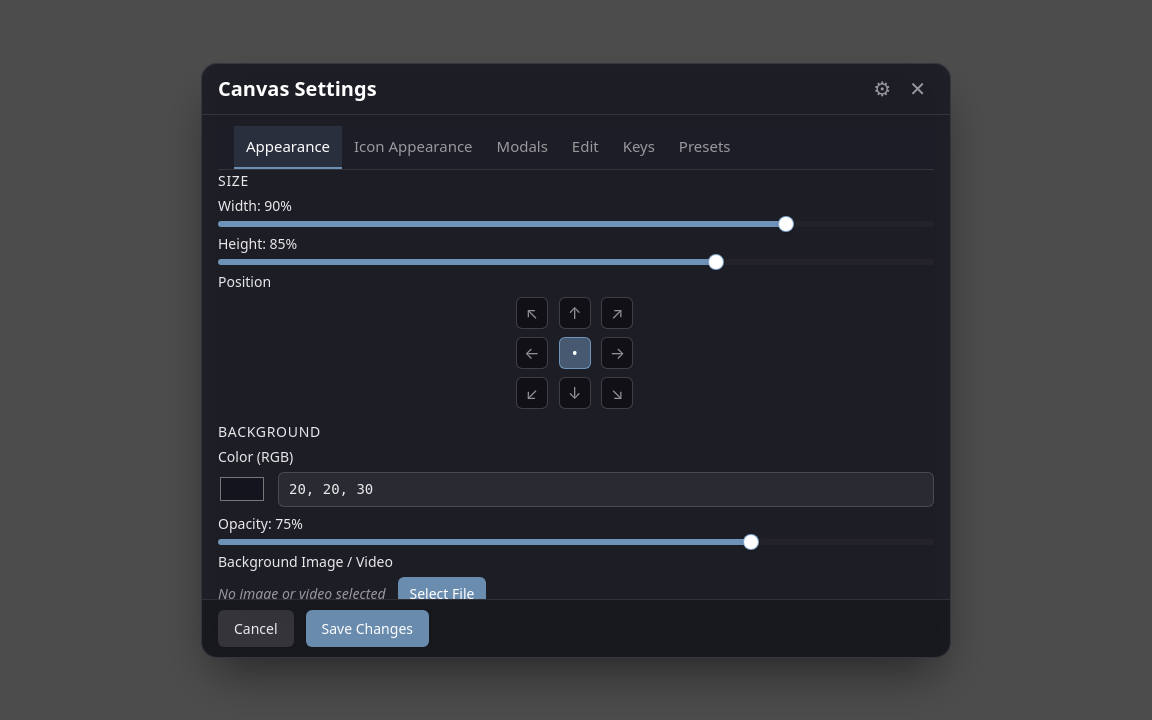
Test: SettingsModal › reports what an import neutralized for safety
Click the tab "Presets": (705, 148) top-left (667, 126), bottom-right (742, 169)
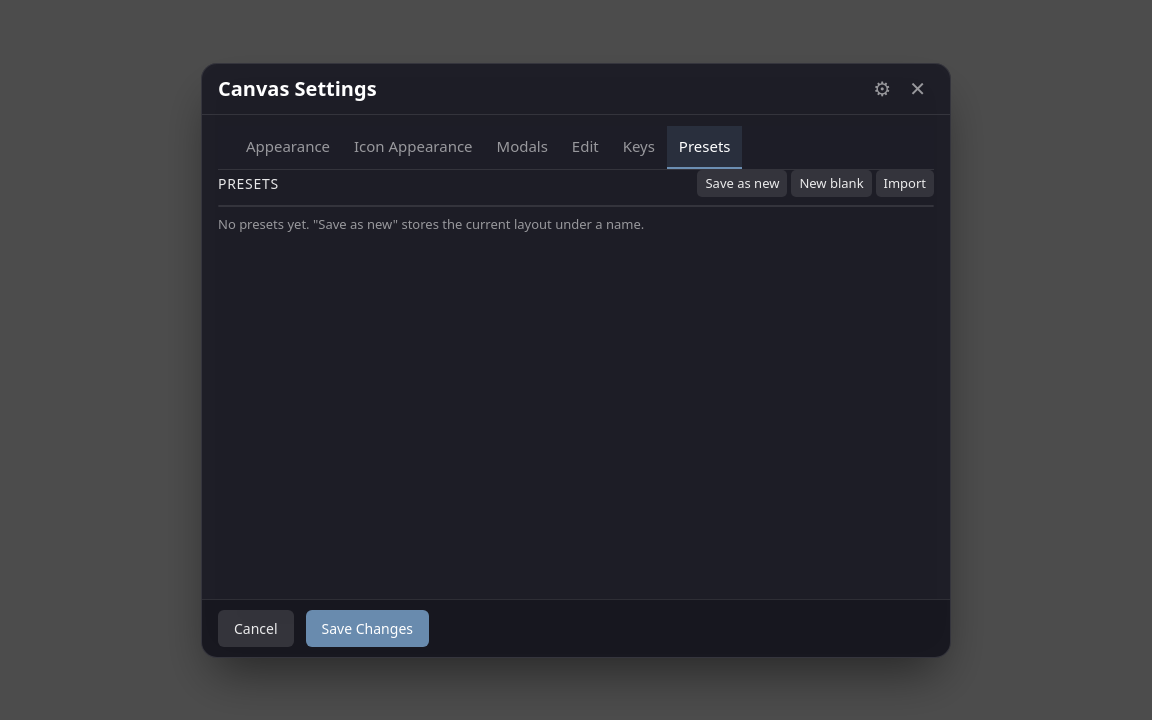
Result: the button "Import" is shown
Click the button "Import": (905, 184) top-left (876, 170), bottom-right (934, 198)
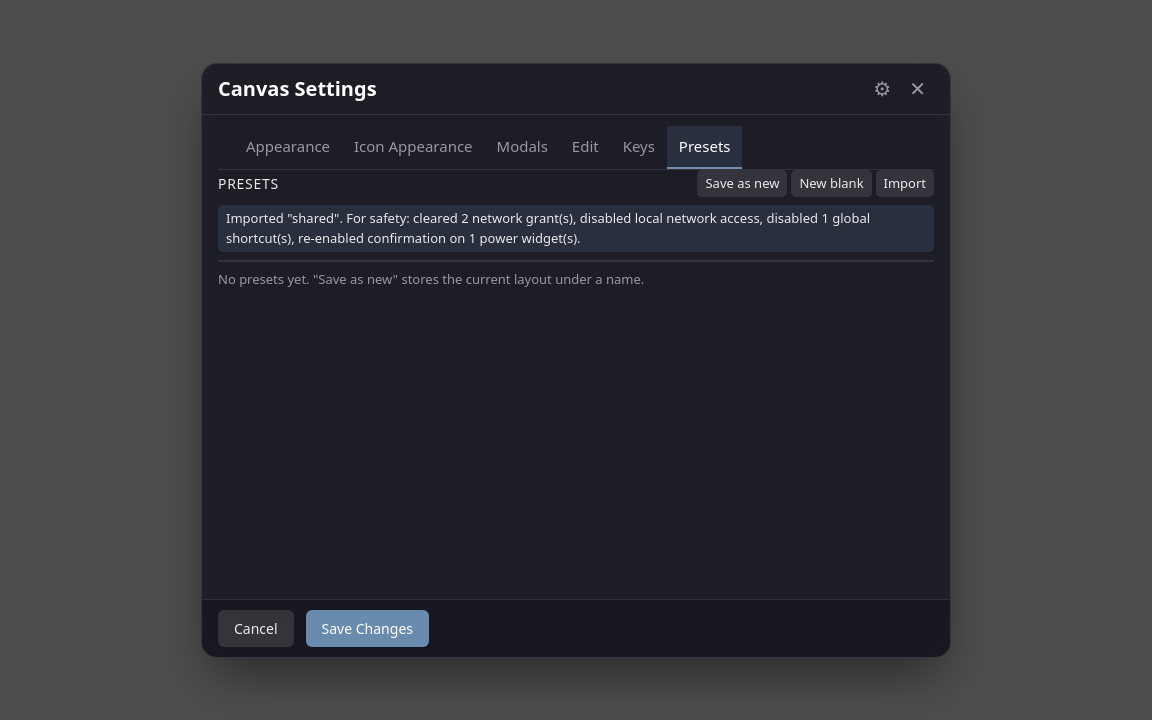
Result: the text "Imported \"shared\". For safety: cleared 2 network grant(s), disabled local network access, disabled 1 global shortcut(" is shown at top-left (226, 209), bottom-right (870, 247)
